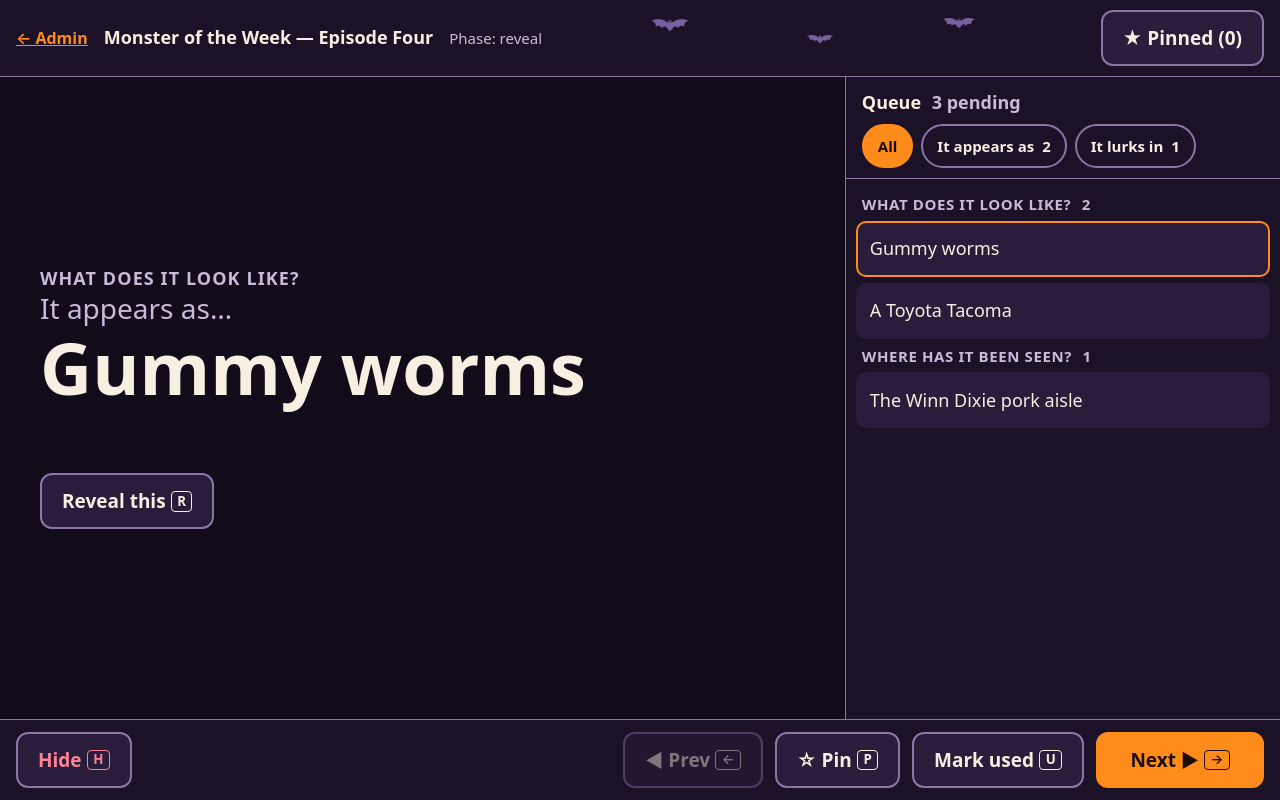
Test case: WriteInSpotlightPage › reveal › needs two taps, then locks the slot and tags the write-in as on the projector
Step 1. Click the button "Reveal this R" → (127, 501), box [40,473,214,529]
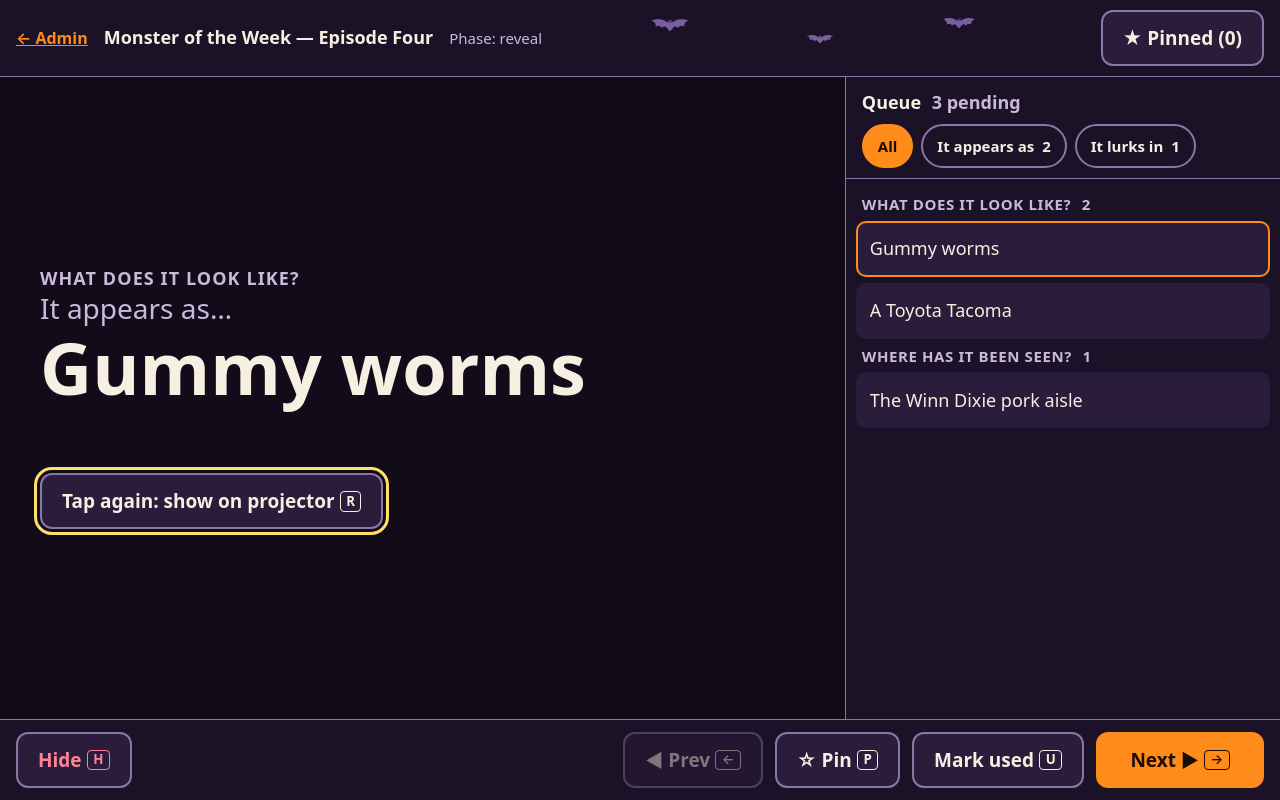
Step 2. Click the button "Tap again: show on projector R" → (212, 501), box [40,473,383,529]
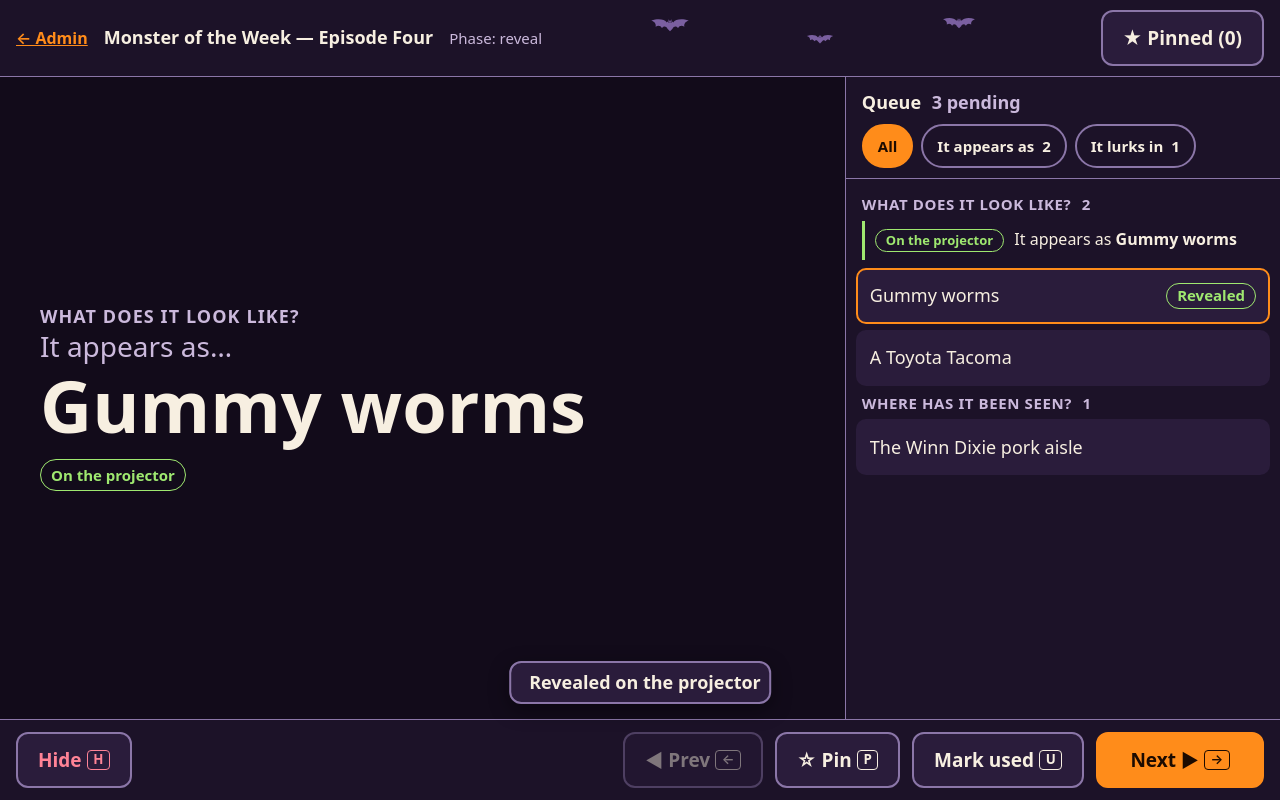
Expected: the button "Reveal this" is not shown
Now the 2nd text "On the projector" is shown, box [40,459,186,491]
Now the text "Revealed" is shown, box [1166,283,1256,308]
